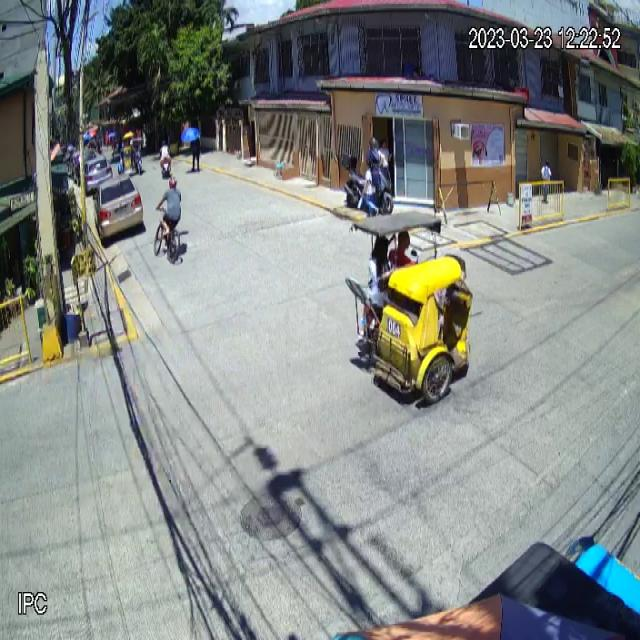Tricycle: (345, 210, 474, 405)
